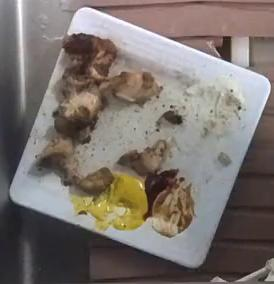chicken: (53, 33, 163, 154), (59, 155, 113, 192), (118, 140, 168, 176)
